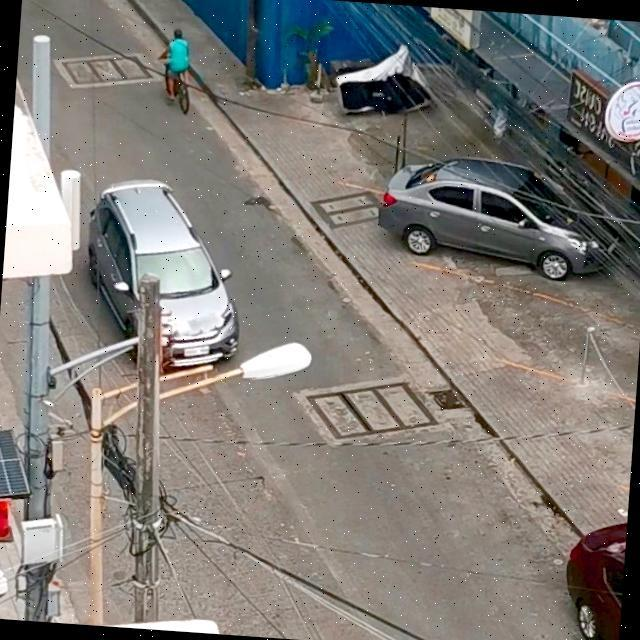Bike: (152, 22, 195, 103)
